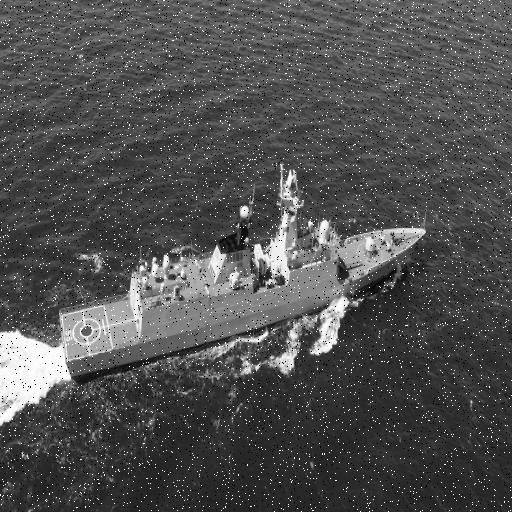Fragata: (51, 145, 431, 394)
